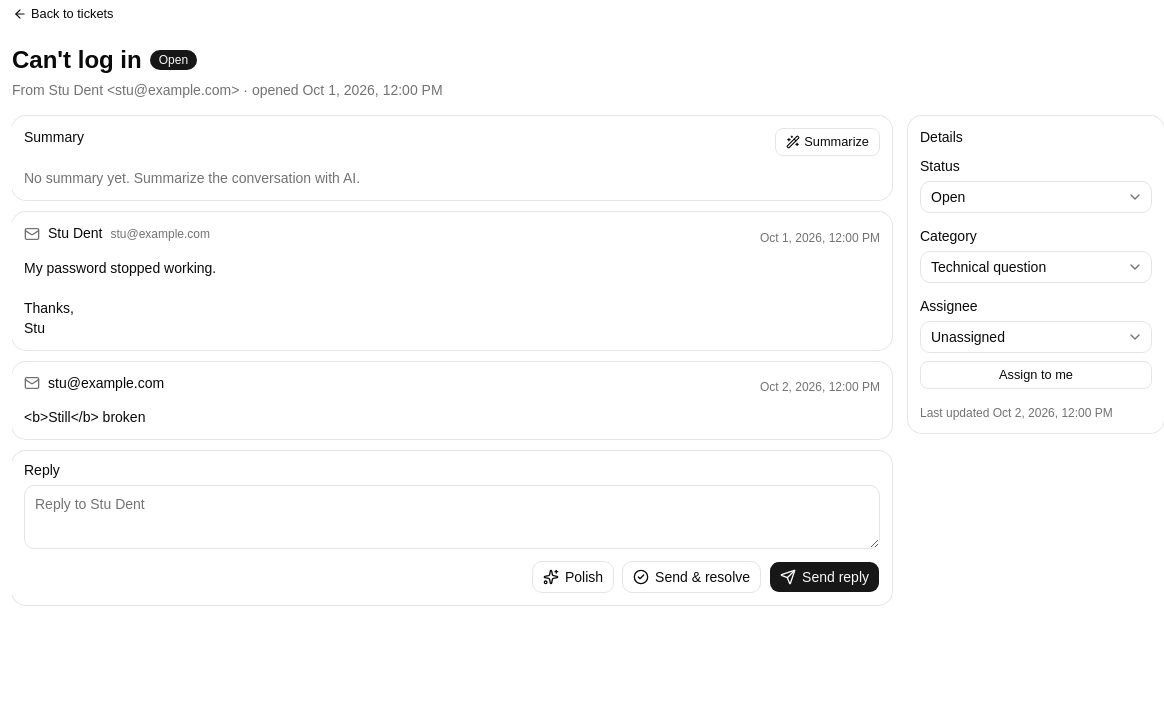
Test case: TicketDetailPage › assigns to the signed-in user, then hides the button
Click the button "Assign to me" at [1036, 375], box [920,361,1152,389]
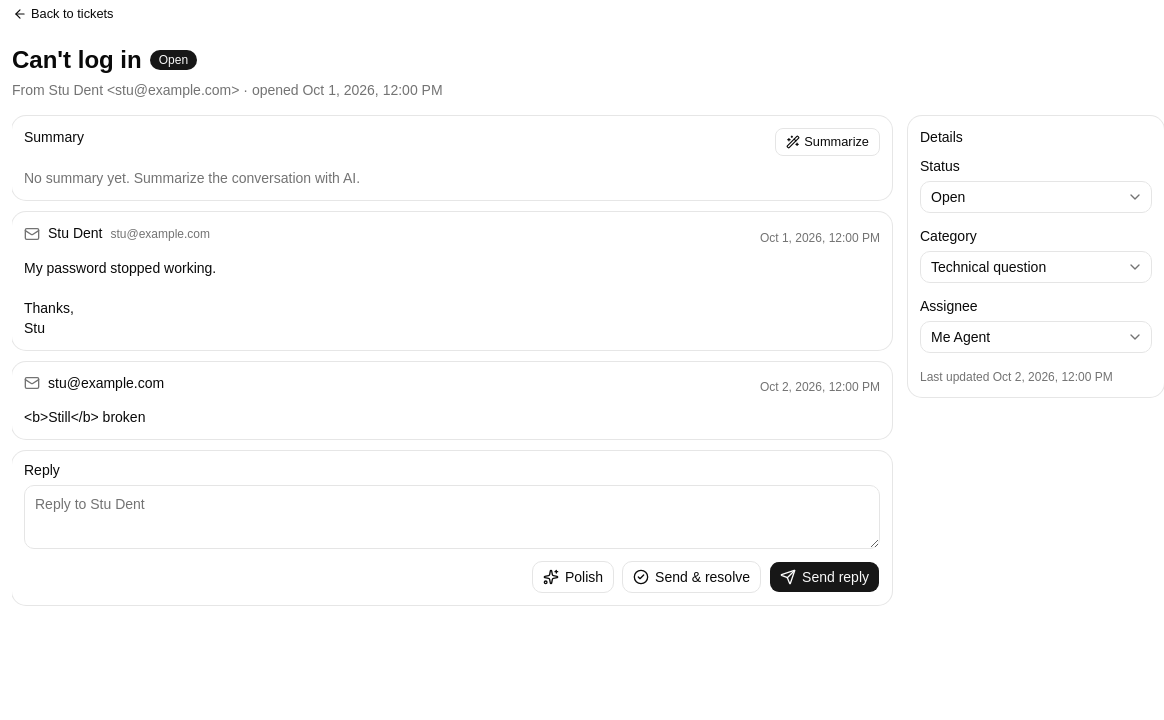
Expected: the button "Assign to me" is gone
Expected: the dropdown named "Assignee" reads "Me Agent", [920,321,1152,353]
